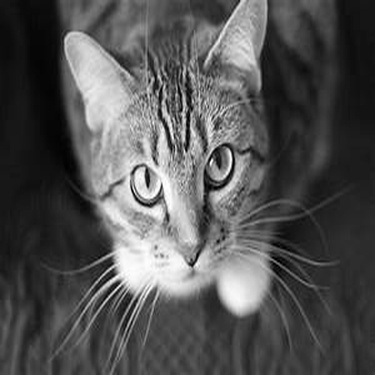cat: (48, 6, 336, 323)
